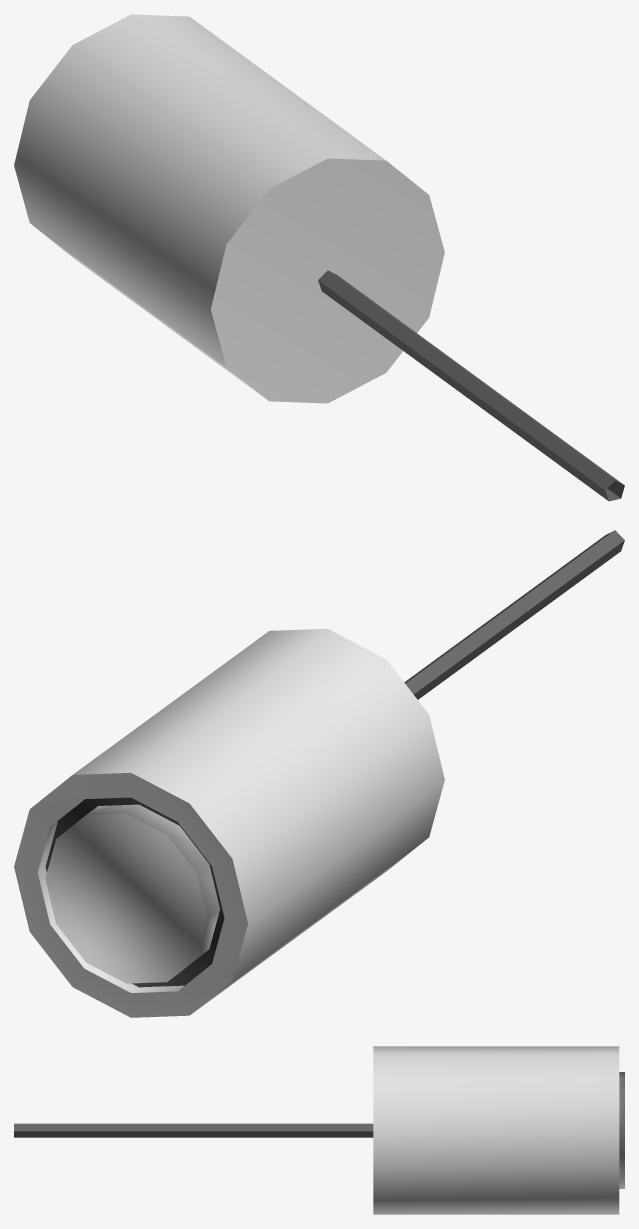
Rendered from Ceiling_Lamp_4.obj.
3 renders of one model, top to bottom at view 1: azimuth 30°, elevation 25°; view 2: azimuth 150°, elevation 25°; view 3: azimuth 270°, elevation 25°, orthographic. The views are drawn at different scales.
Visible parts, largest first — view 1: Ceiling_Lamp_4; view 2: Ceiling_Lamp_4; view 3: Ceiling_Lamp_4.
Part boxes in pixels (<box>): Ceiling_Lamp_4: <box>14,14,624,501</box>; Ceiling_Lamp_4: <box>14,530,624,1017</box>; Ceiling_Lamp_4: <box>14,1046,624,1214</box>.
Size of the model in its own units: 0.2088 by 0.2088 by 0.7548.
